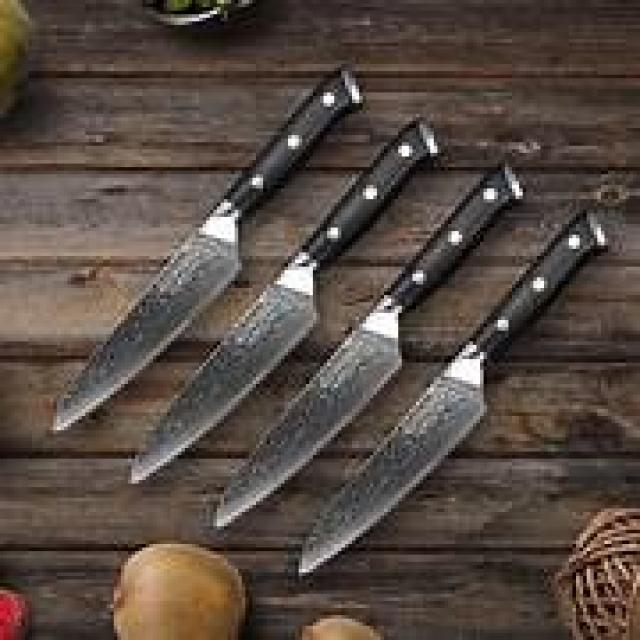Knife: (53, 71, 359, 427), (299, 213, 604, 569), (217, 167, 519, 523), (135, 121, 434, 480)
